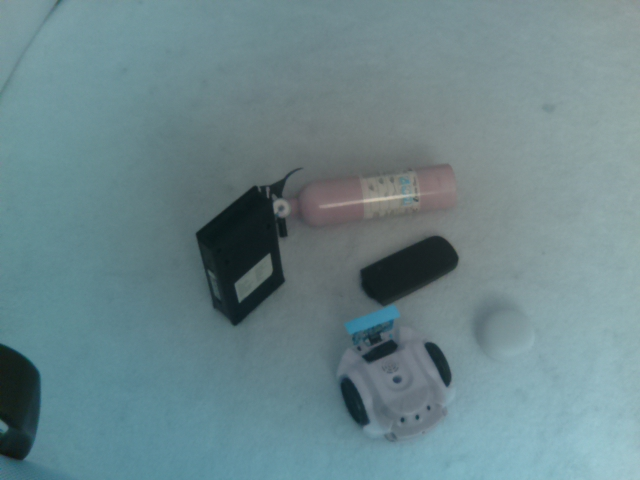board: (338, 304, 403, 356)
chassis: (331, 300, 464, 445)
